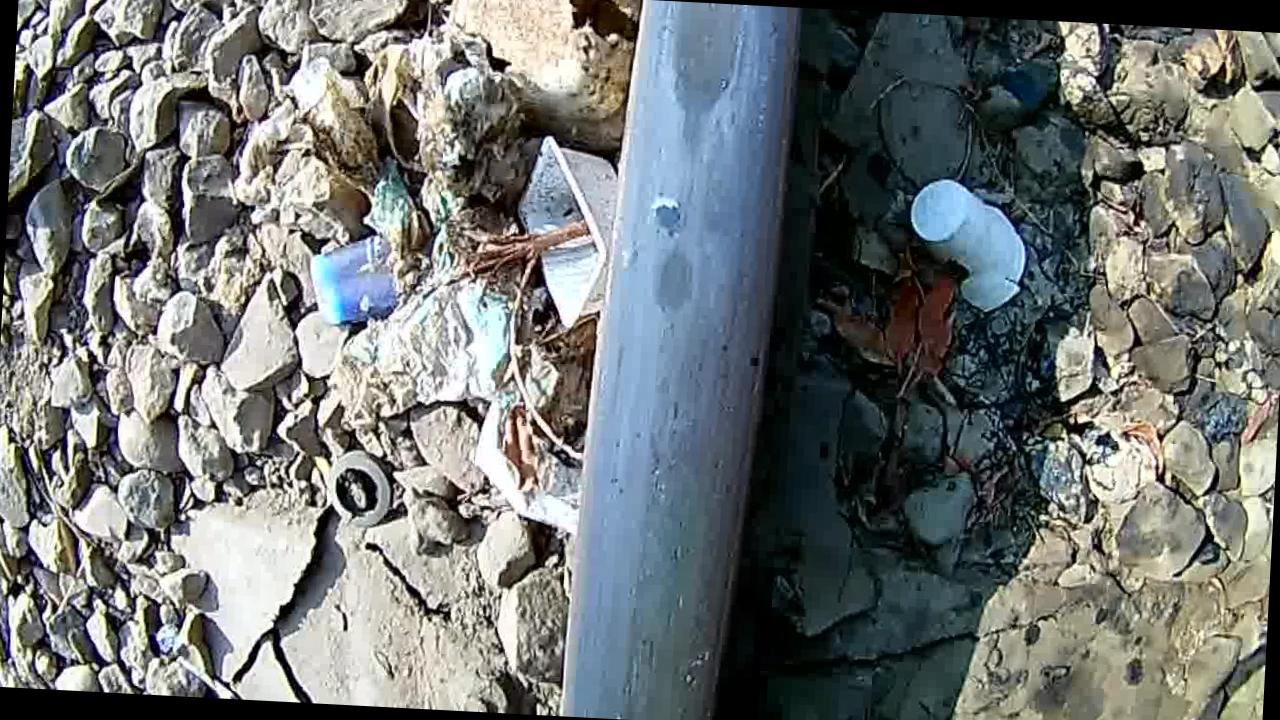bolt_missing: (621, 0, 757, 346)
